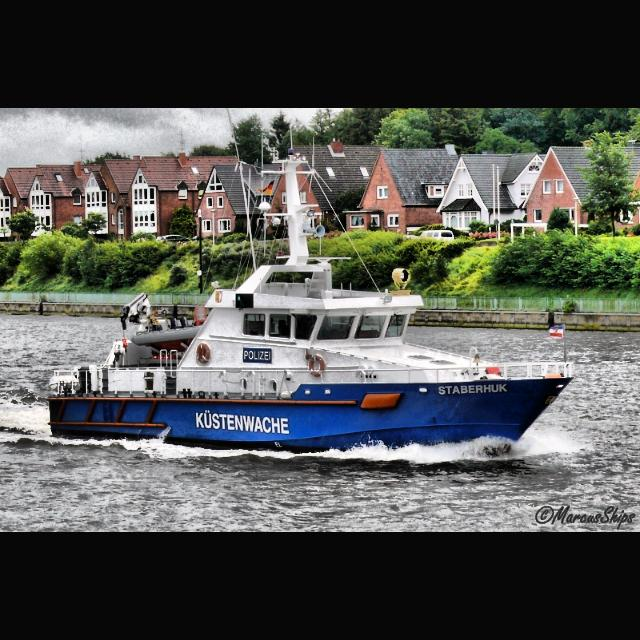patrol_vessel: (44, 148, 578, 462)
